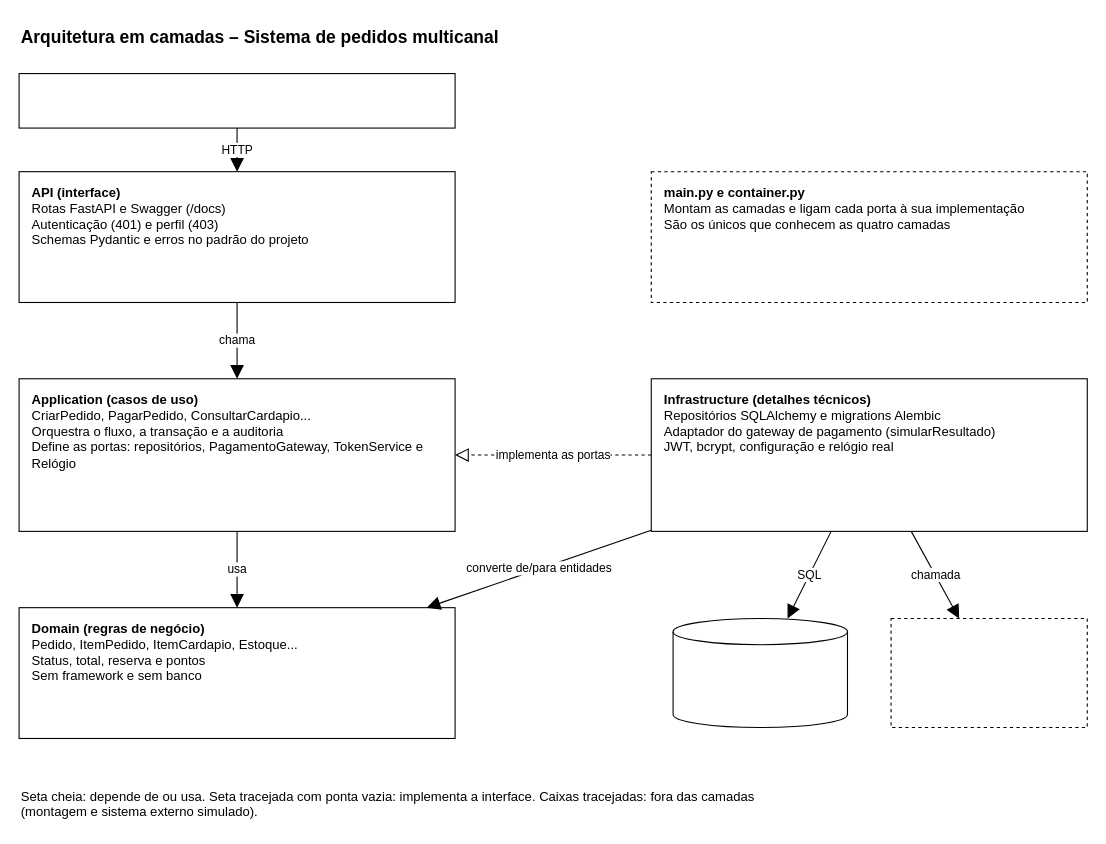
Image size: 1106x844. Some labels were removed from this diagram. The shapes that lost their labels are listed below. From the top down, each one's centre as x and y in pixels, then its label:
At point (236, 100): "Cliente App, Totem, Web ou Postman".
At point (759, 672): "MySQL 8.0".
At point (988, 672): "Gateway de pagamento (mock) Resultado: APROVADO, RECUSADO ou ERRO_GATEWAY".
